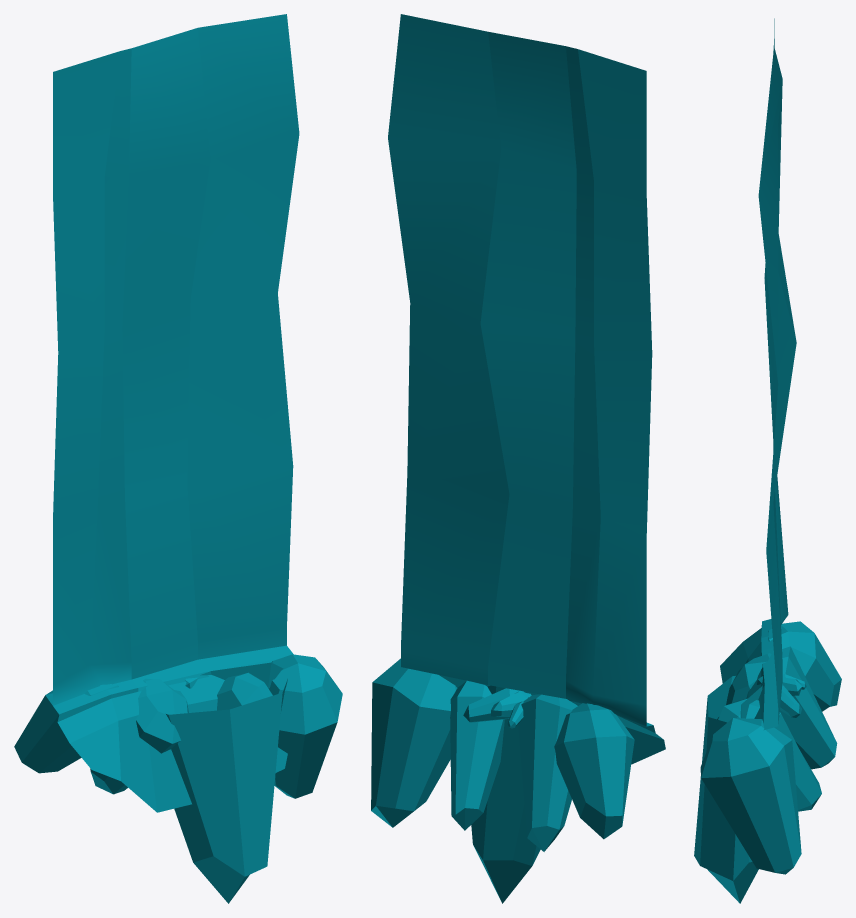
Rendered from Roof_sml_modul.fbx.
The picture shows the model from 3 angles, left to right: view 1: azimuth 30°, elevation 25°; view 2: azimuth 150°, elevation 25°; view 3: azimuth 270°, elevation 25°; orthographic projection. The views are drawn at different scales.
Visible parts, largest first — view 1: Roof_Sml_Modul; view 2: Roof_Sml_Modul; view 3: Roof_Sml_Modul.
Boxes of the visible parts, x1,y1,x2,y2 form: Roof_Sml_Modul: (14,14,342,903); Roof_Sml_Modul: (371,14,665,903); Roof_Sml_Modul: (694,18,841,903).
Bounding box in the file's own units: 1.8 × 5.38 × 0.8775.
